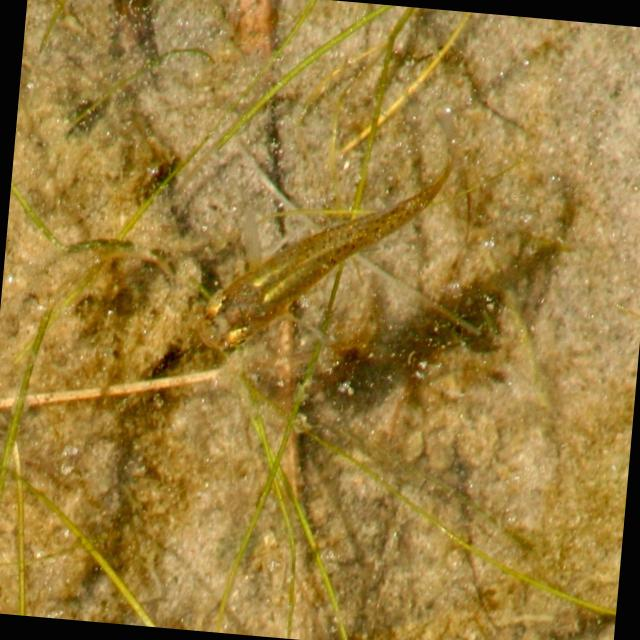Sivrisinek Baligi: (200, 95, 472, 372)
